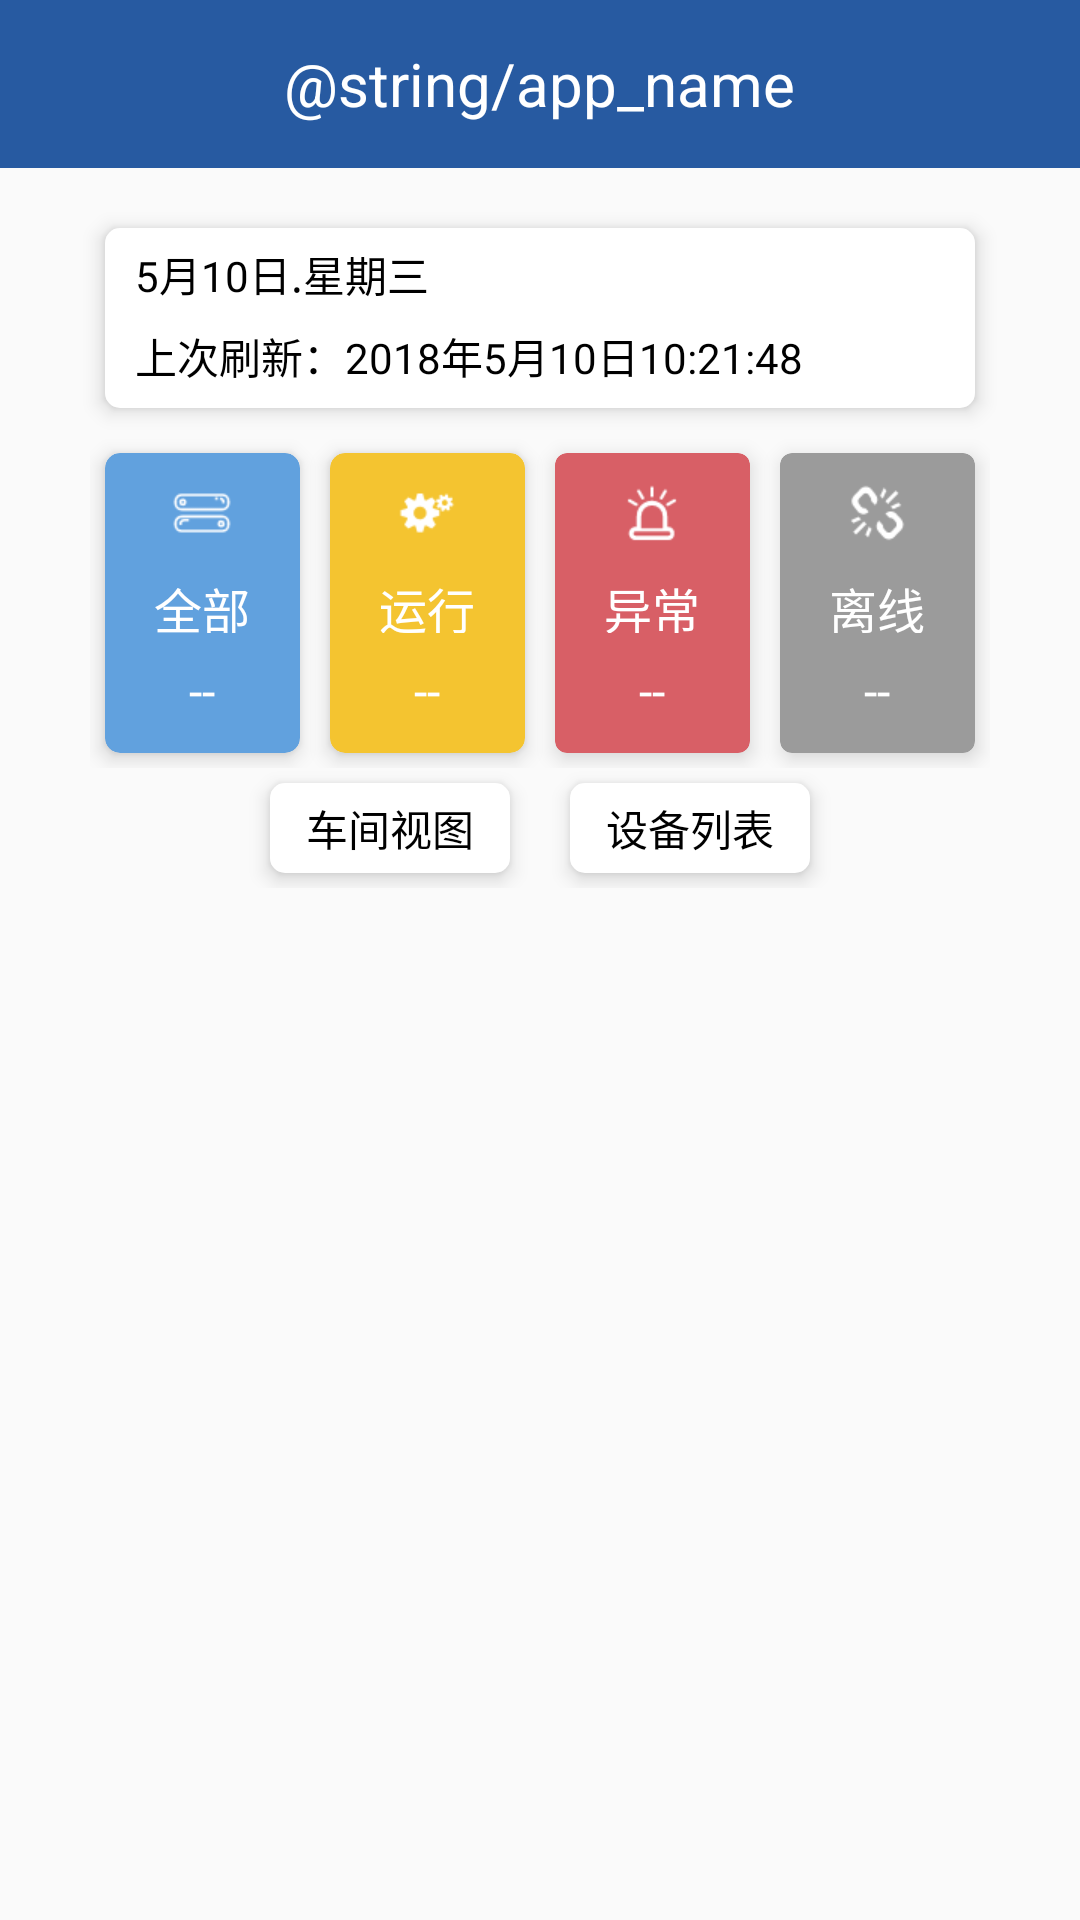

Where to tap for icons on this 1080w x 1920h app screen, as (x=x, y=y):
error: (x=652, y=513)
offline: (x=877, y=513)
